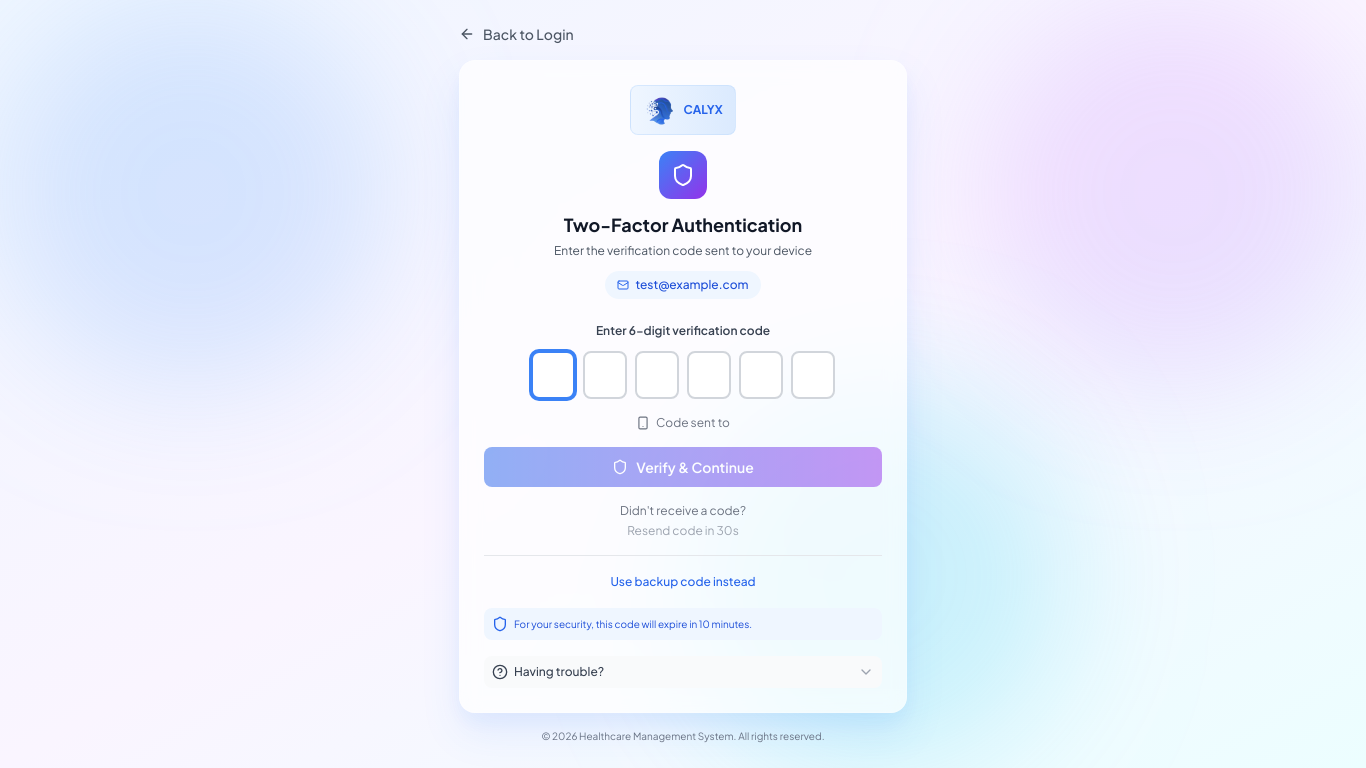
Test: TwoFactorAuth Page › shows help section when expanded
This screenshot has width=1366, height=768.
Click the button "Having trouble?": [559, 672] box [484,656,882,688]
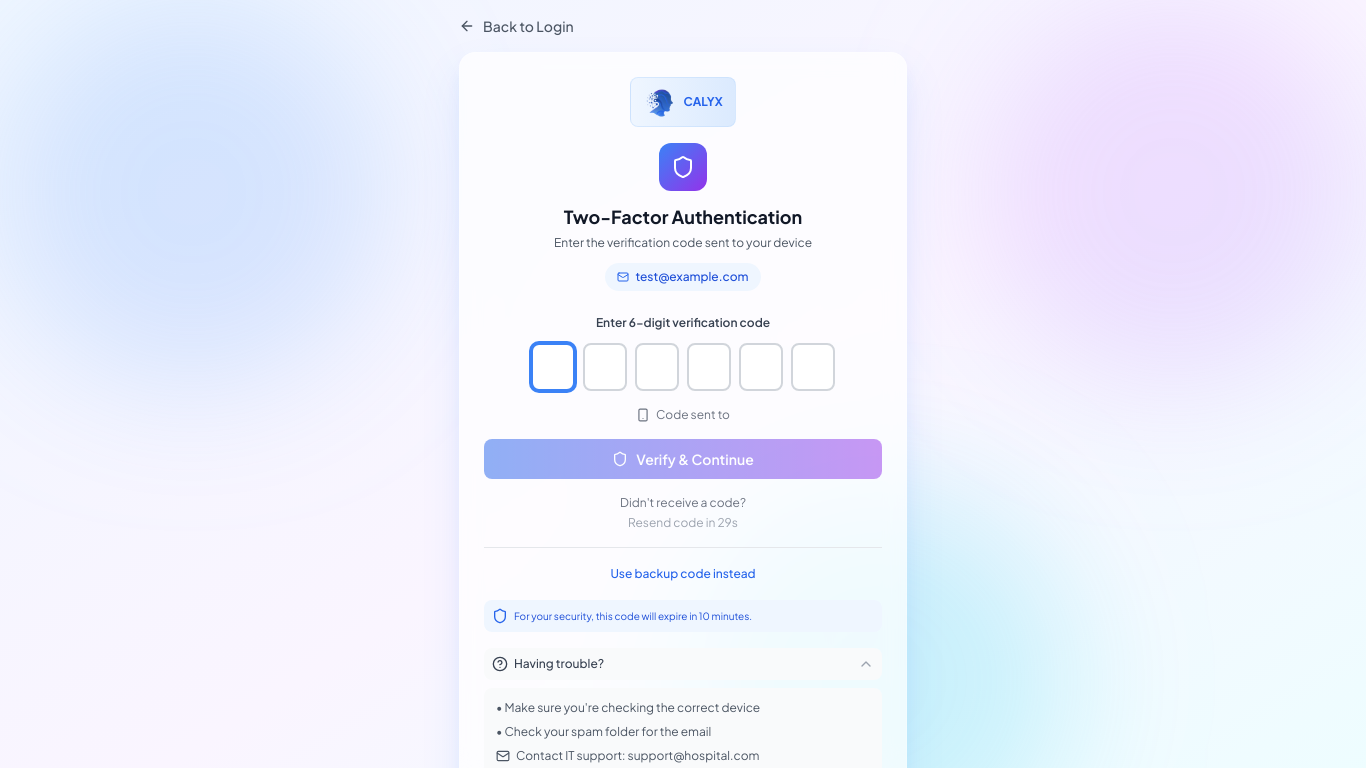
Expected: the text "• Check your spam folder for the email" is shown, [496,724,711,739]
